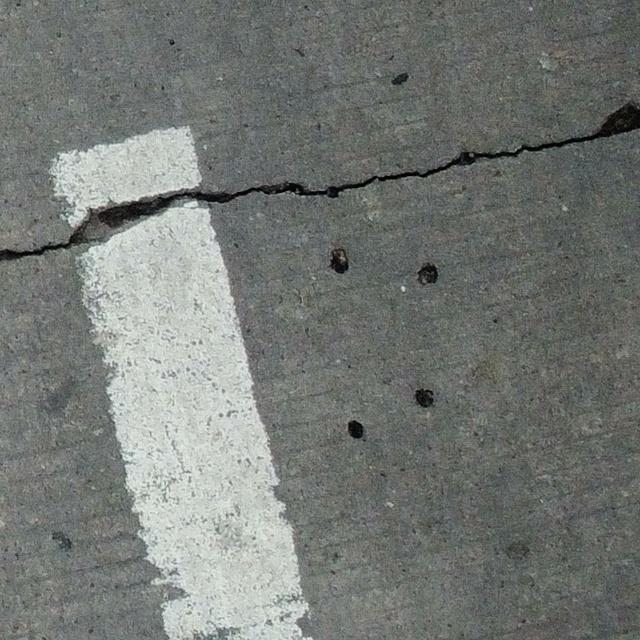TransverseCrack: (1, 103, 640, 262)
